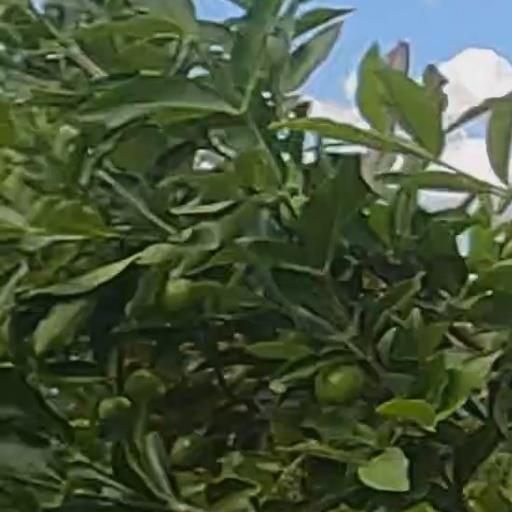acerola: (316, 367, 365, 407)
